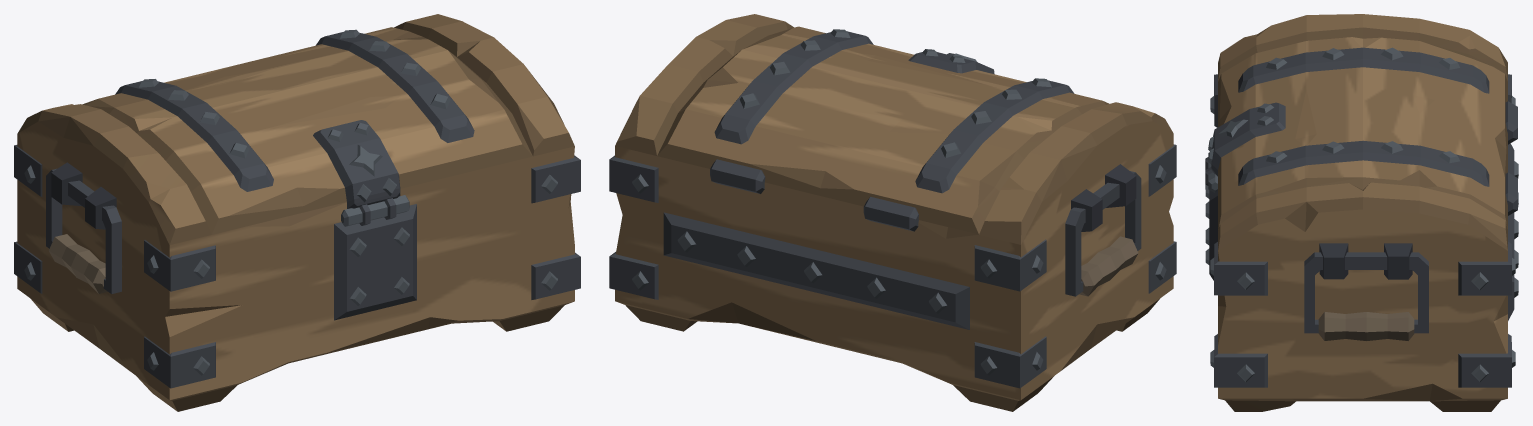
The model's file is SM_Prop_Crate_05.fbx.
3 views of the same model, side by side, from view 1: azimuth 30°, elevation 25°; view 2: azimuth 150°, elevation 25°; view 3: azimuth 270°, elevation 25° (orthographic). The views are drawn at different scales.
Parts seen in each view (by area): view 1: SM_Prop_Crate_05, SM_Prop_Crate_05_Lid; view 2: SM_Prop_Crate_05, SM_Prop_Crate_05_Lid; view 3: SM_Prop_Crate_05, SM_Prop_Crate_05_Lid.
Boxes of the visible parts, x1,y1,x2,y2 form: SM_Prop_Crate_05: (14,14,580,411); SM_Prop_Crate_05_Lid: (82,27,532,234); SM_Prop_Crate_05: (609,14,1176,411); SM_Prop_Crate_05_Lid: (657,26,1109,234); SM_Prop_Crate_05: (1205,14,1518,411); SM_Prop_Crate_05_Lid: (1208,37,1507,230).
Bounding box in the file's own units: 114 × 58.13 × 72.42.
